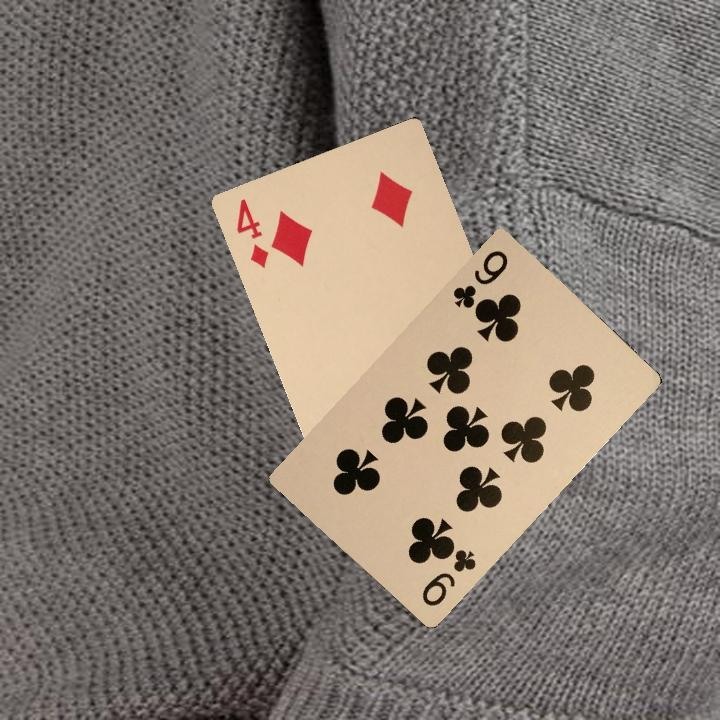4d: (232, 194, 272, 271)
9c: (448, 245, 511, 311), (418, 544, 479, 609)
